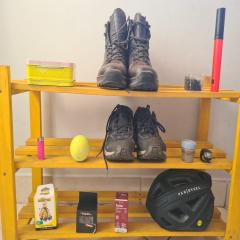bola: (70, 135, 90, 162)
bomba: (210, 8, 226, 92)
bota1: (95, 7, 161, 92)
bota2: (104, 105, 168, 161)
capacete: (146, 169, 216, 232)
cx-bike: (77, 190, 98, 234)
cx-ferro: (114, 192, 128, 233)
cx-magali: (24, 58, 76, 88)
cx-minions: (34, 183, 59, 231)
cx-xuxa: (184, 72, 205, 93)
isqueiro: (36, 137, 46, 160)
luz: (200, 148, 213, 164)
pote: (182, 138, 196, 164)
